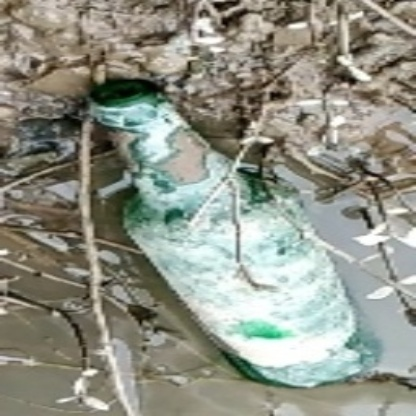bottle: (96, 78, 372, 389)
